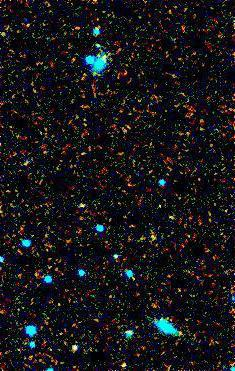star: (105, 347, 135, 371)
